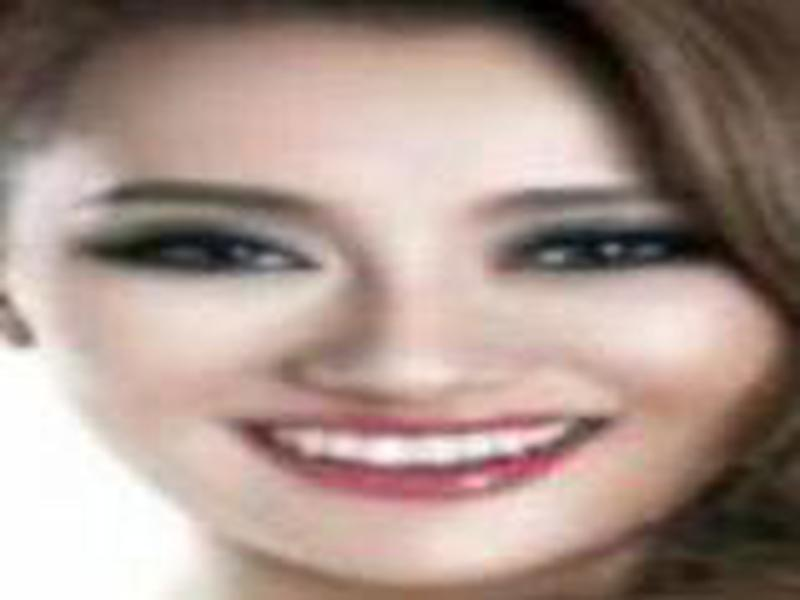without_mask: (42, 46, 759, 585)
